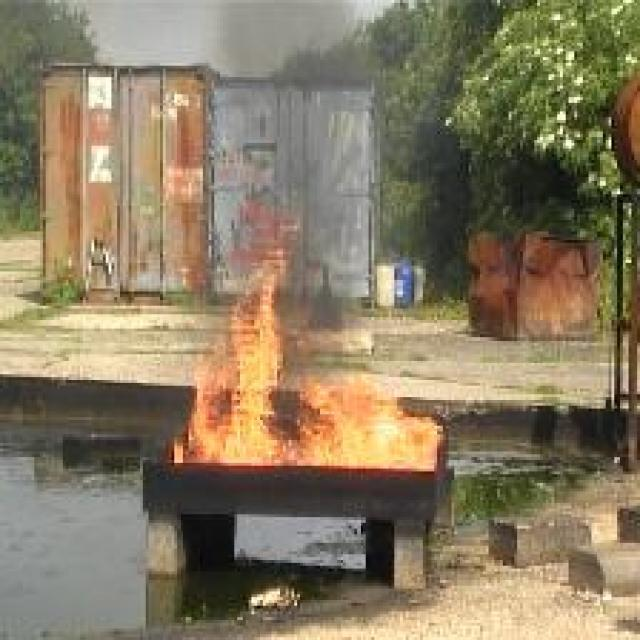Fire: (174, 247, 443, 473)
